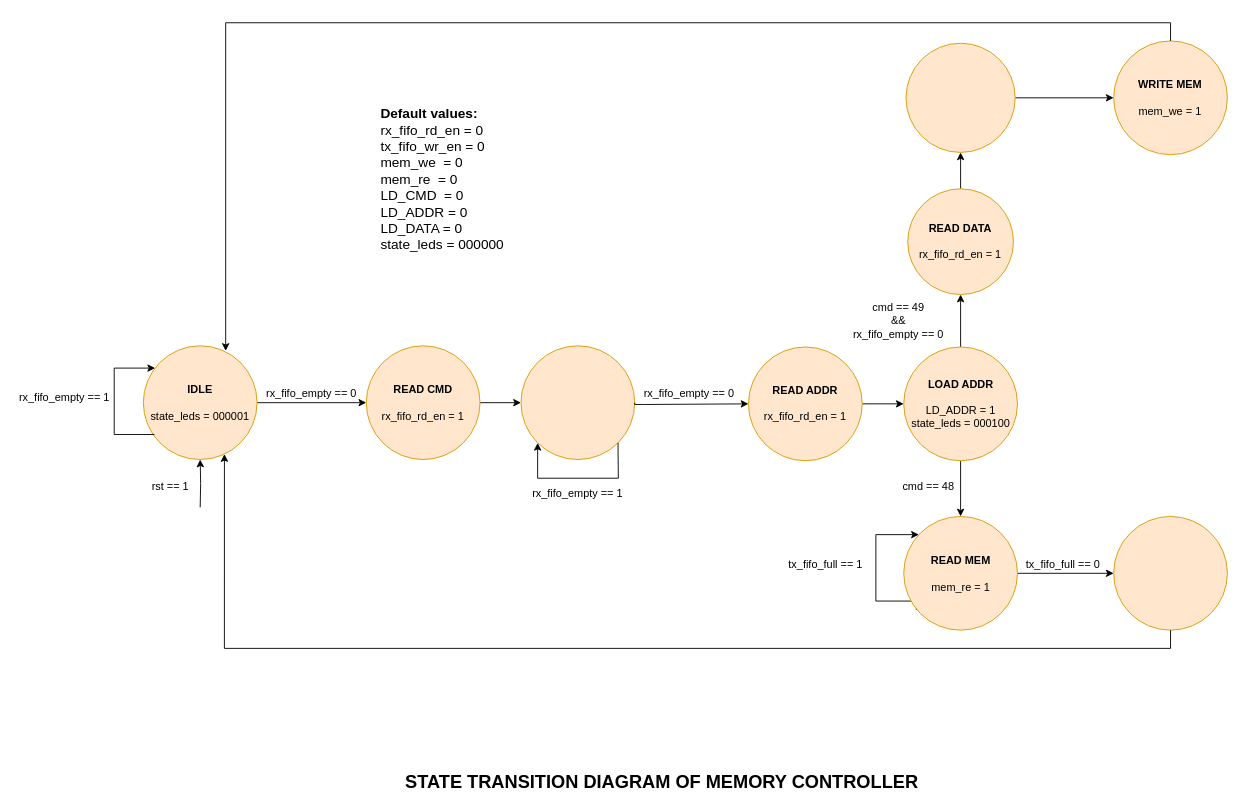
Some shapes in this 1243 by 810 pixel diagram are drawn without their labels. The shapes that lost their labels are listed below. From the top down, each one's centre as x and y in pixels, then its label:
(960,97): LOAD DATA LD_DATA = 1
(577,402): LOAD CMD LD_CMD = 1 state_leds = 000010
(1170,573): ECHO VALUE tx_fifo_wr_en = 1
